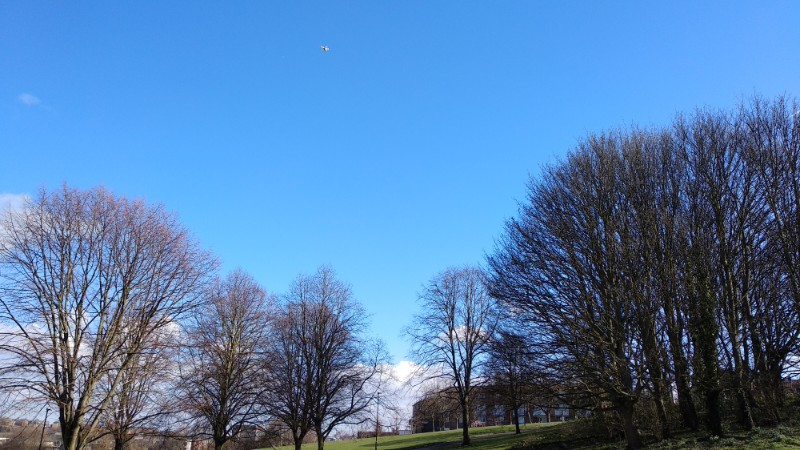drone: (319, 43, 331, 54)
